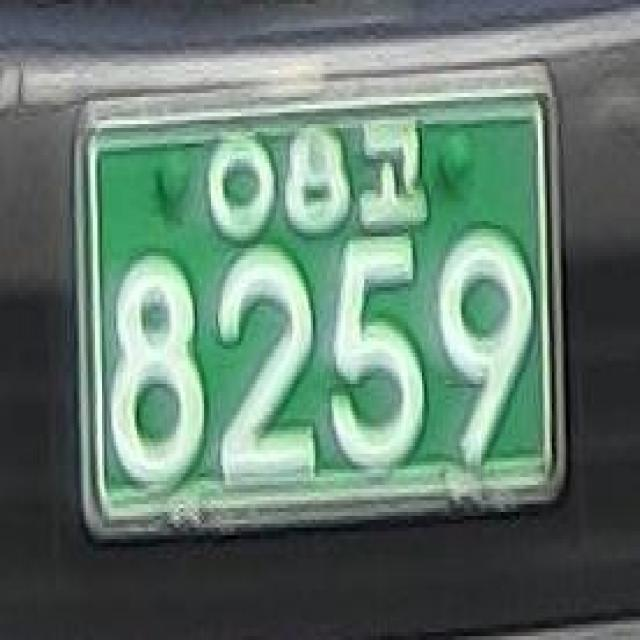illegal_plate: (64, 62, 584, 559)
